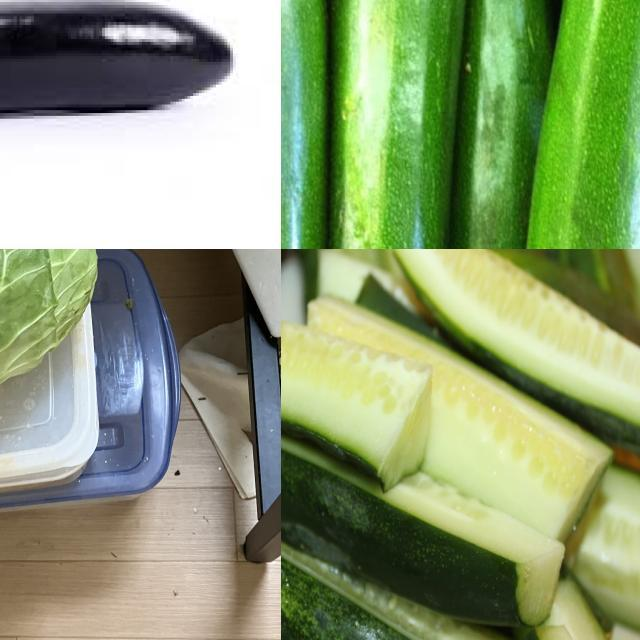cucumber: (282, 421, 527, 629), (282, 519, 532, 640)
eggplant: (1, 1, 239, 116)
zucchini: (321, 1, 510, 250)
